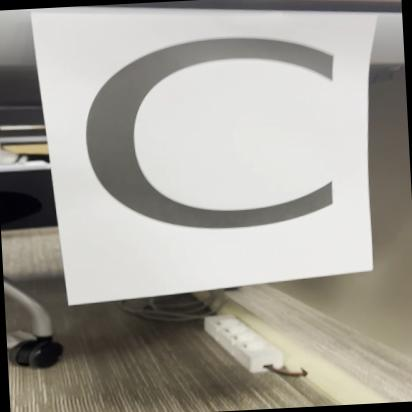seat: (47, 18, 367, 282)
